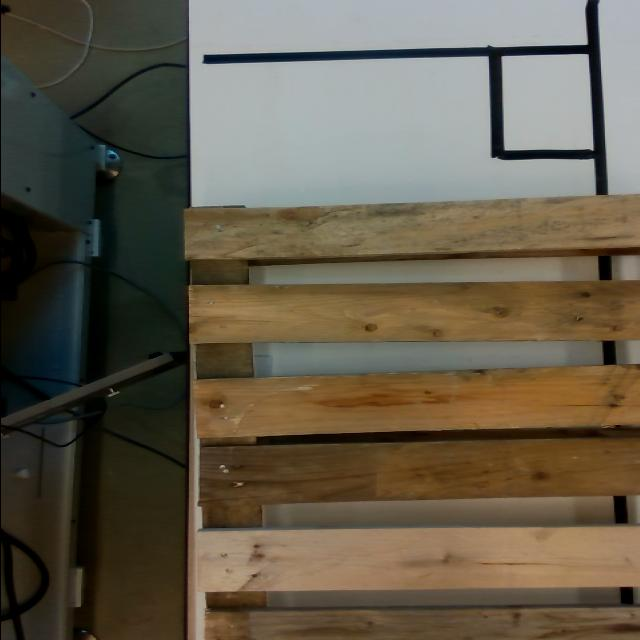pallet: (181, 192, 640, 640)
